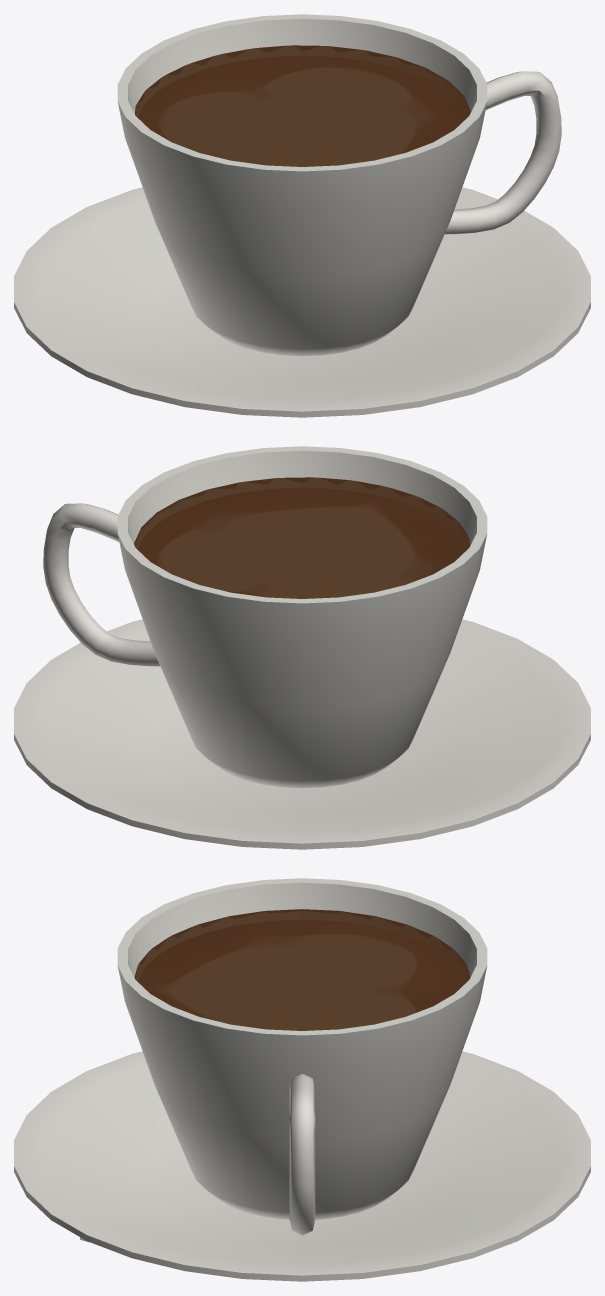
File: drink_latte_art_cup.glb
3 views of the same model, one above another, from view 1: azimuth 30°, elevation 25°; view 2: azimuth 150°, elevation 25°; view 3: azimuth 270°, elevation 25° (orthographic).
Visible parts, largest first — view 1: drink_latte_art_cup; view 2: drink_latte_art_cup; view 3: drink_latte_art_cup.
Boxes of the visible parts, x1=… form: drink_latte_art_cup: x1=14, y1=14, x2=590, y2=417; drink_latte_art_cup: x1=14, y1=446, x2=590, y2=849; drink_latte_art_cup: x1=14, y1=878, x2=590, y2=1281.
Size of the model in its own units: 0.1582 by 0.072 by 0.1551.
